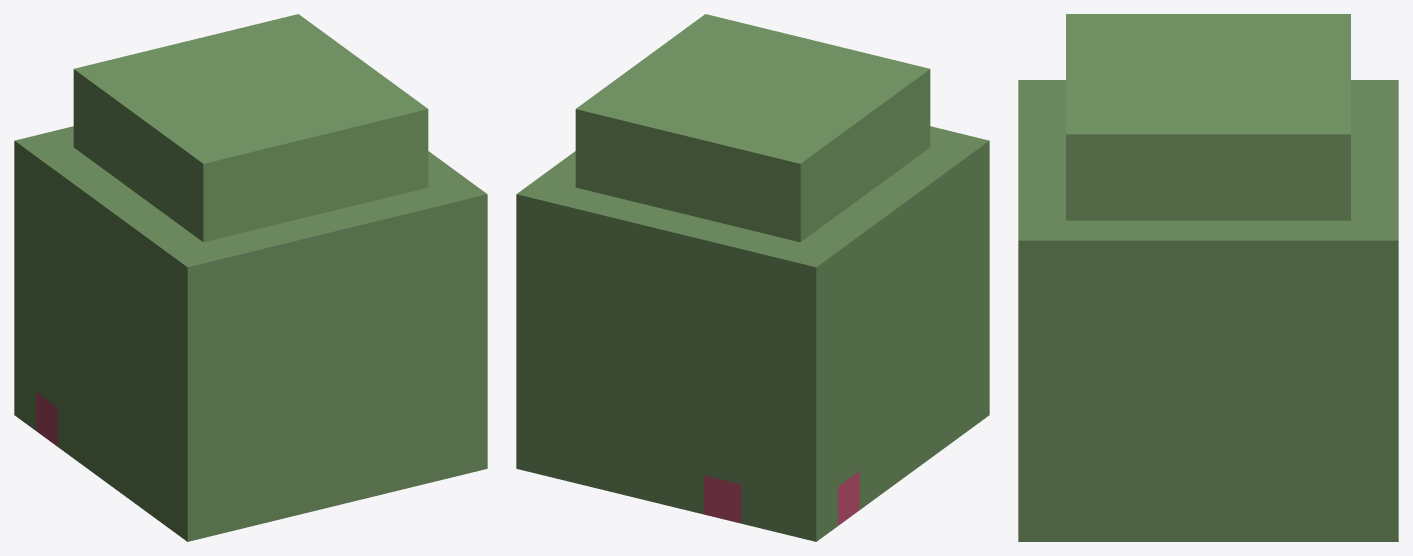
Rendered from frambuesa_01.glb.
3 views of the same model, side by side, from view 1: azimuth 30°, elevation 25°; view 2: azimuth 150°, elevation 25°; view 3: azimuth 270°, elevation 25° (orthographic). The views are drawn at different scales.
Visible parts, largest first — view 1: frambuesa_01; view 2: frambuesa_01; view 3: frambuesa_01.
Boxes of the visible parts, bbox=[...] form: frambuesa_01: bbox=[14, 14, 487, 541]; frambuesa_01: bbox=[516, 14, 989, 541]; frambuesa_01: bbox=[1018, 14, 1398, 541].
Size of the model in its own units: 0.8 by 0.9 by 0.8.
